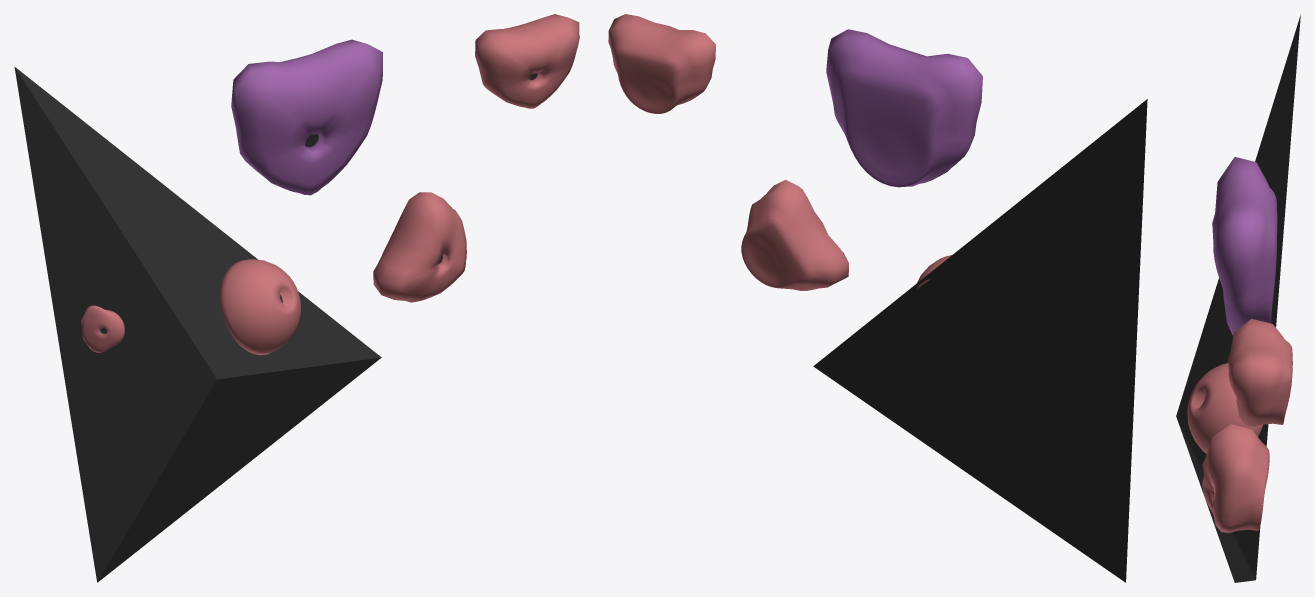
File: climbing.fbx
3 renders of one model, left to right at view 1: azimuth 30°, elevation 25°; view 2: azimuth 150°, elevation 25°; view 3: azimuth 270°, elevation 25°, orthographic. The views are drawn at different scales.
Parts seen in each view (by area): view 1: Cone.002, Sphere.003, Sphere.005, Sphere.004, Sphere.001, Sphere.002; view 2: Cone.002, Sphere.003, Sphere.005, Sphere.004; view 3: Cone.002, Sphere.003, Sphere.005, Sphere.004, Sphere.001.
Boxes of the visible parts, x1,y1,x2,y2 form: Cone.002: [14, 66, 381, 582]; Sphere.003: [231, 39, 382, 195]; Sphere.005: [373, 192, 466, 302]; Sphere.004: [475, 14, 579, 108]; Sphere.001: [220, 259, 300, 355]; Sphere.002: [81, 305, 125, 352]; Cone.002: [813, 99, 1147, 582]; Sphere.003: [826, 29, 982, 187]; Sphere.005: [741, 179, 848, 290]; Sphere.004: [608, 14, 715, 113]; Cone.002: [1176, 14, 1300, 582]; Sphere.003: [1212, 157, 1277, 335]; Sphere.005: [1202, 423, 1269, 532]; Sphere.004: [1228, 318, 1292, 426]; Sphere.001: [1187, 363, 1263, 453].
Bounding box in the file's own units: 371 × 331 × 69.17.
